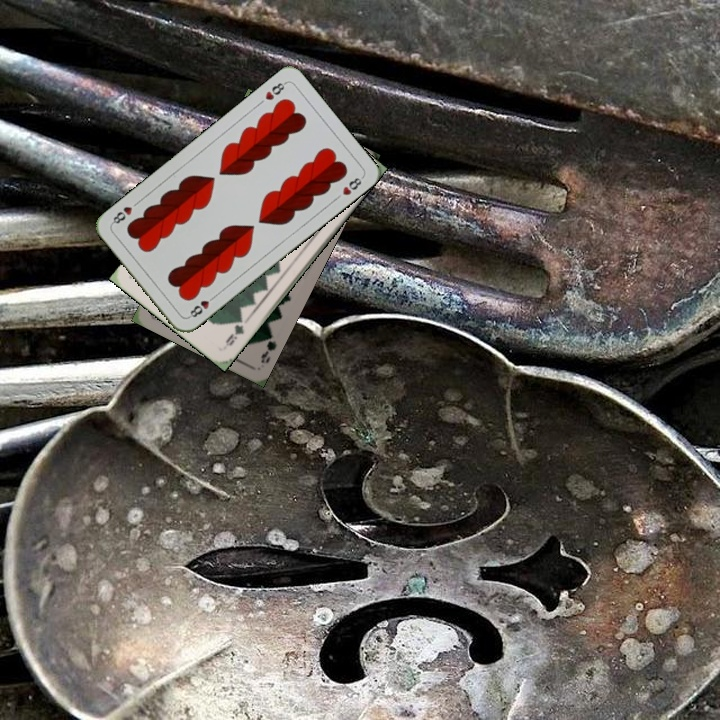G9: (221, 313, 247, 349), (257, 327, 279, 366)
H8: (184, 291, 219, 320), (261, 78, 289, 103)
